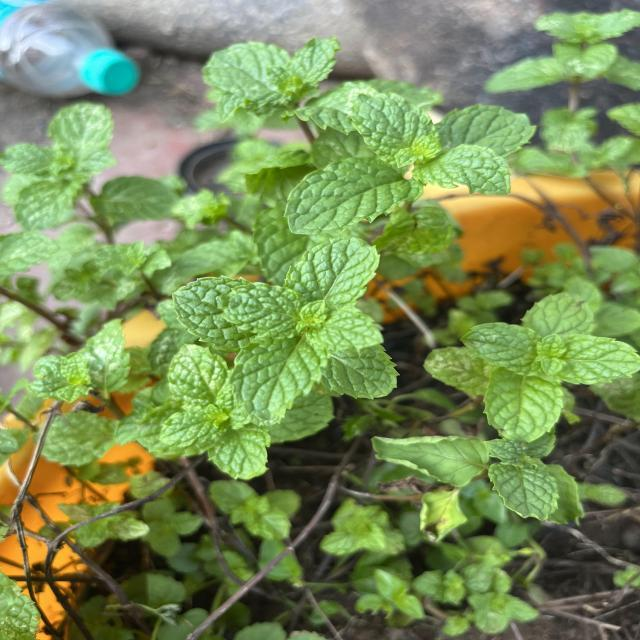Mentha spicata: (280, 156, 428, 237), (224, 338, 332, 427), (282, 235, 381, 306), (350, 90, 440, 164), (215, 280, 304, 343), (458, 321, 542, 378), (556, 332, 640, 385)
